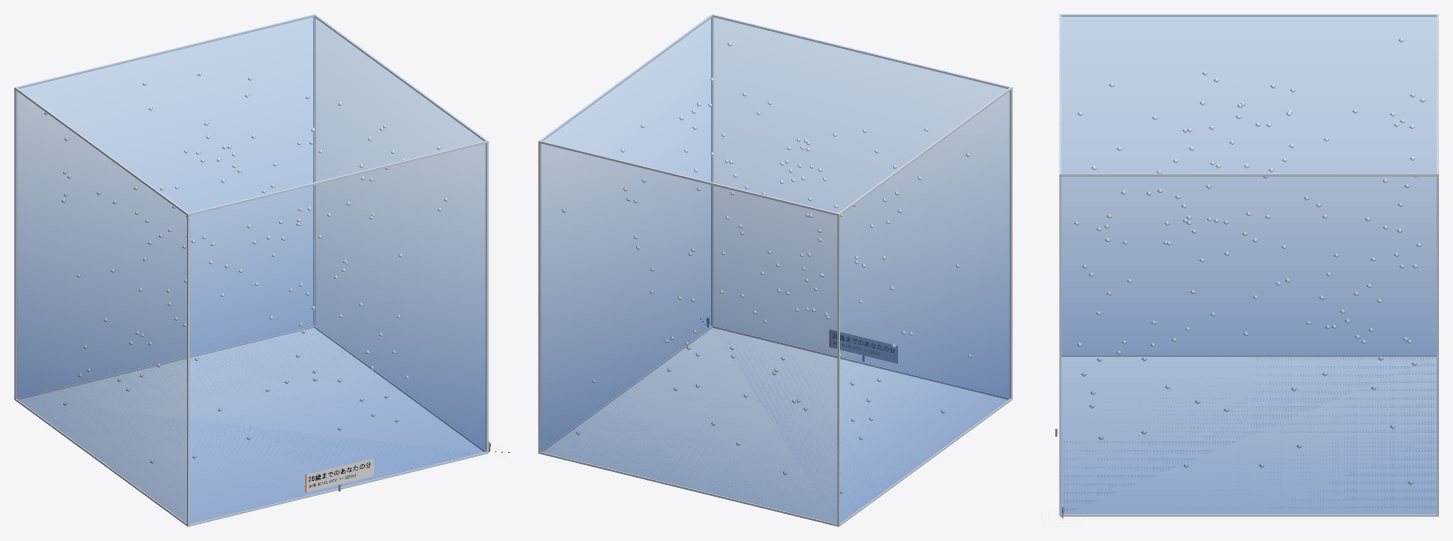
The model's file is cube_life_28.glb.
3 renders of one model, left to right at view 1: azimuth 30°, elevation 25°; view 2: azimuth 150°, elevation 25°; view 3: azimuth 270°, elevation 25°, orthographic. The views are drawn at different scales.
Visible parts, largest first — view 1: co2, edge, dots, label; view 2: co2, edge, dots, label; view 3: co2, edge, dots.
Boxes of the visible parts, box(x1,y1,x2,y2) form: co2: box(16, 15, 485, 523); edge: box(14, 14, 488, 526); dots: box(44, 72, 448, 463); label: box(305, 458, 373, 492); co2: box(541, 15, 1010, 523); edge: box(538, 14, 1012, 526); dots: box(562, 42, 971, 493); label: box(829, 329, 897, 363); co2: box(1060, 15, 1437, 513); edge: box(1059, 14, 1438, 516); dots: box(1074, 38, 1425, 485).
Bounding box in the file's own units: 55.92 × 52.2 × 55.02.
8 materials, 3 textured.
